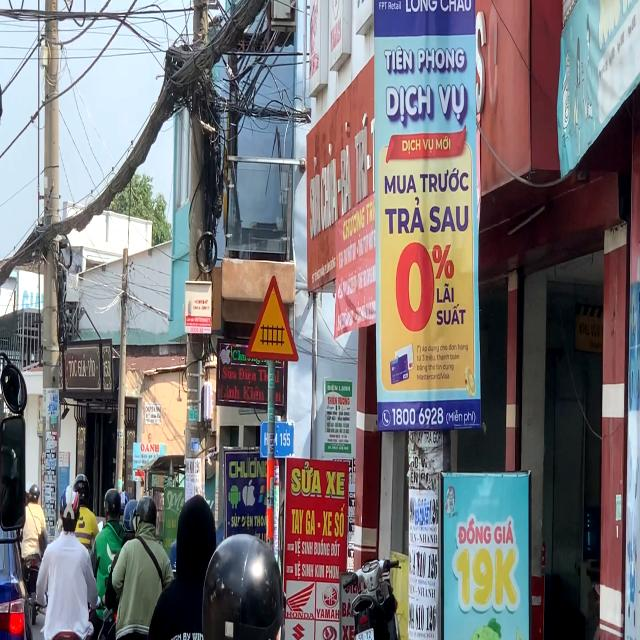W.210: (243, 273, 302, 368)
